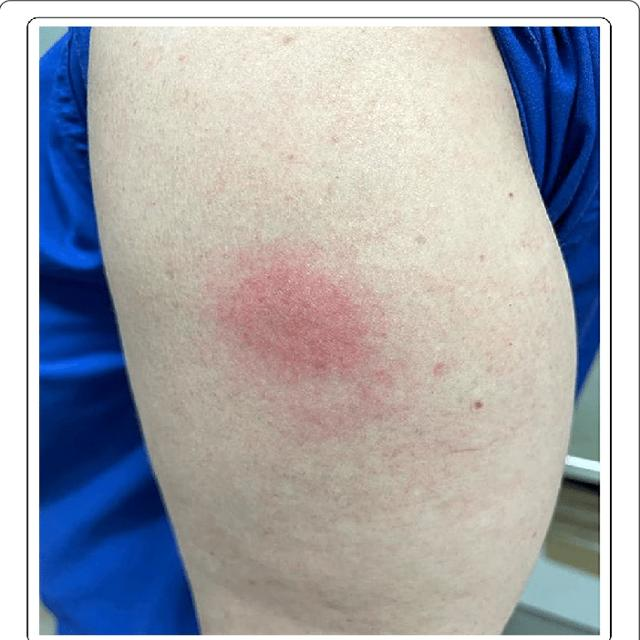stage-1: (219, 248, 379, 384)
